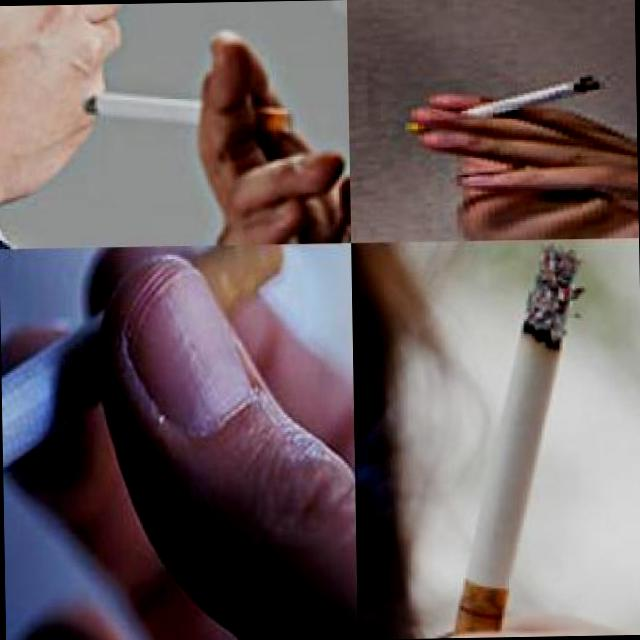smoke: (0, 244, 290, 539), (445, 246, 585, 632), (403, 69, 618, 129), (83, 89, 291, 138)
